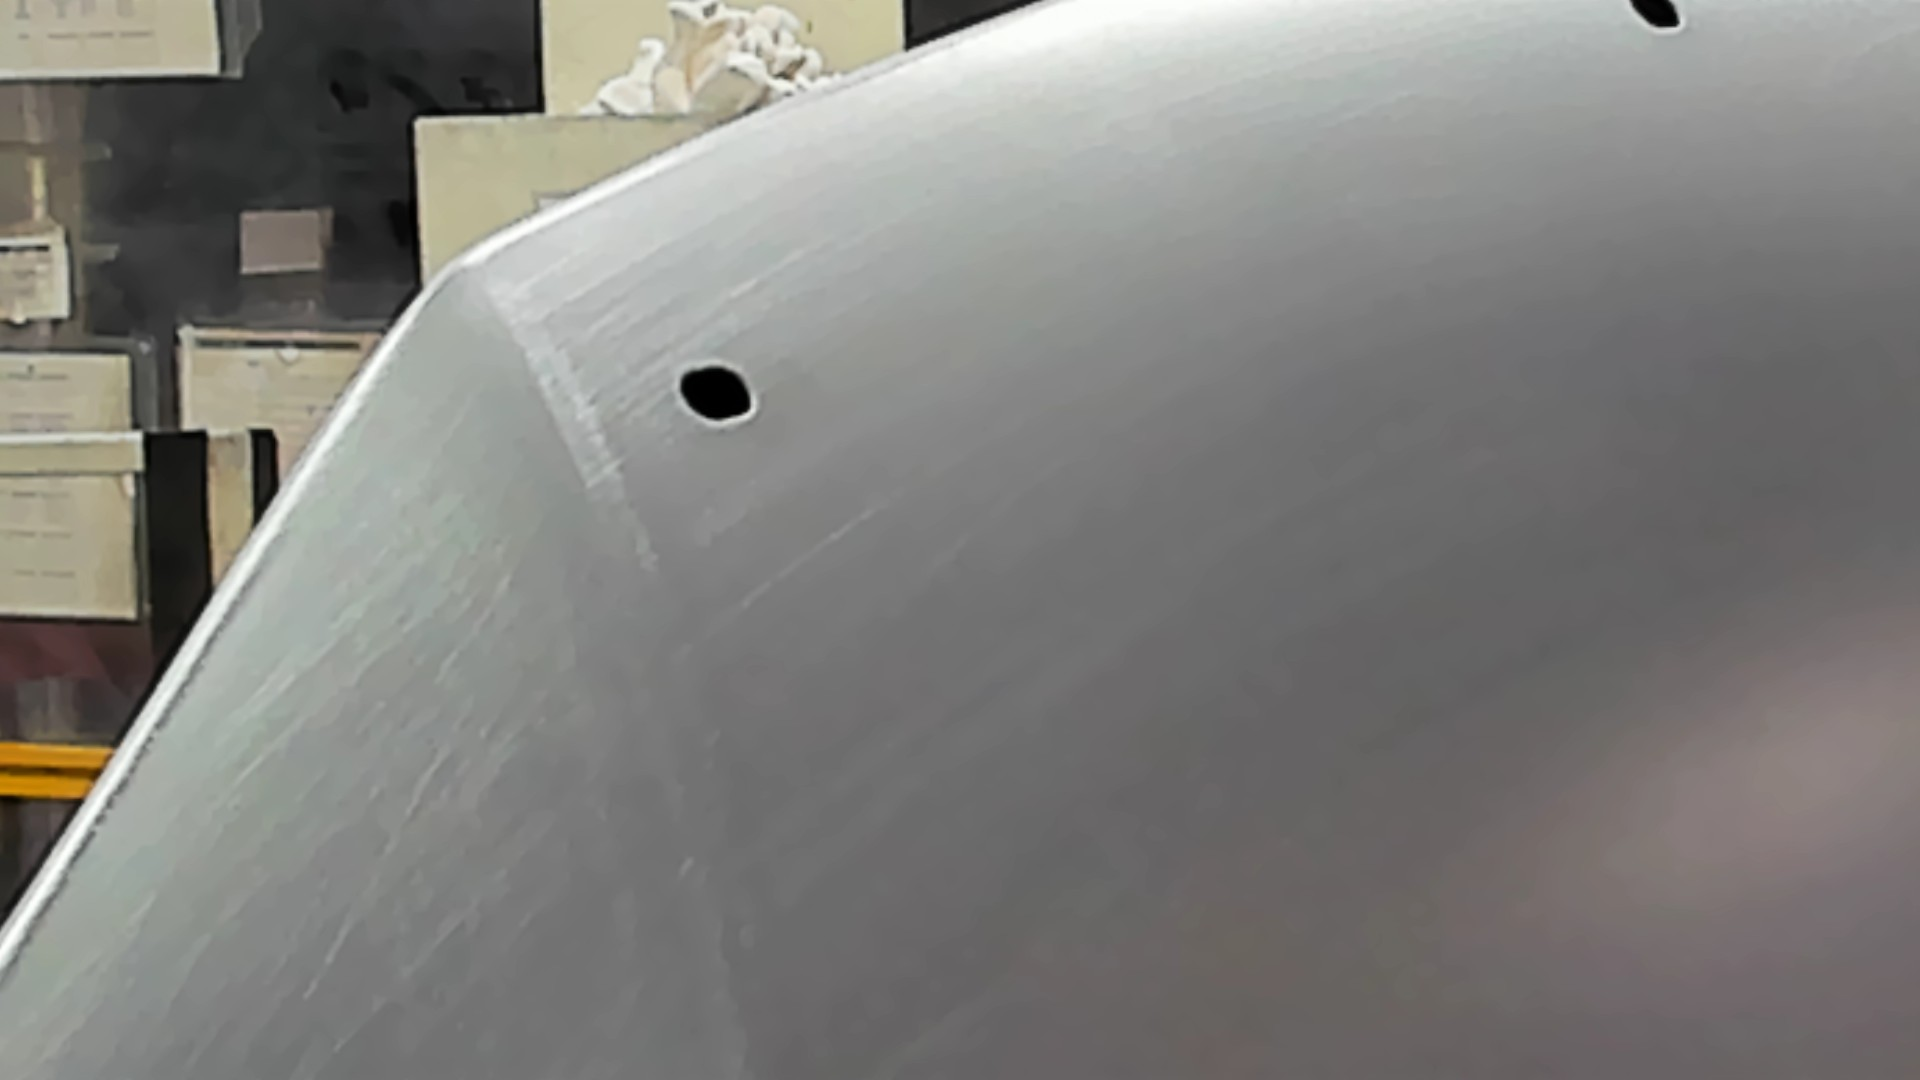amorfo: (670, 355, 761, 431), (1615, 1, 1695, 41)
capo: (884, 94, 1920, 1080)
